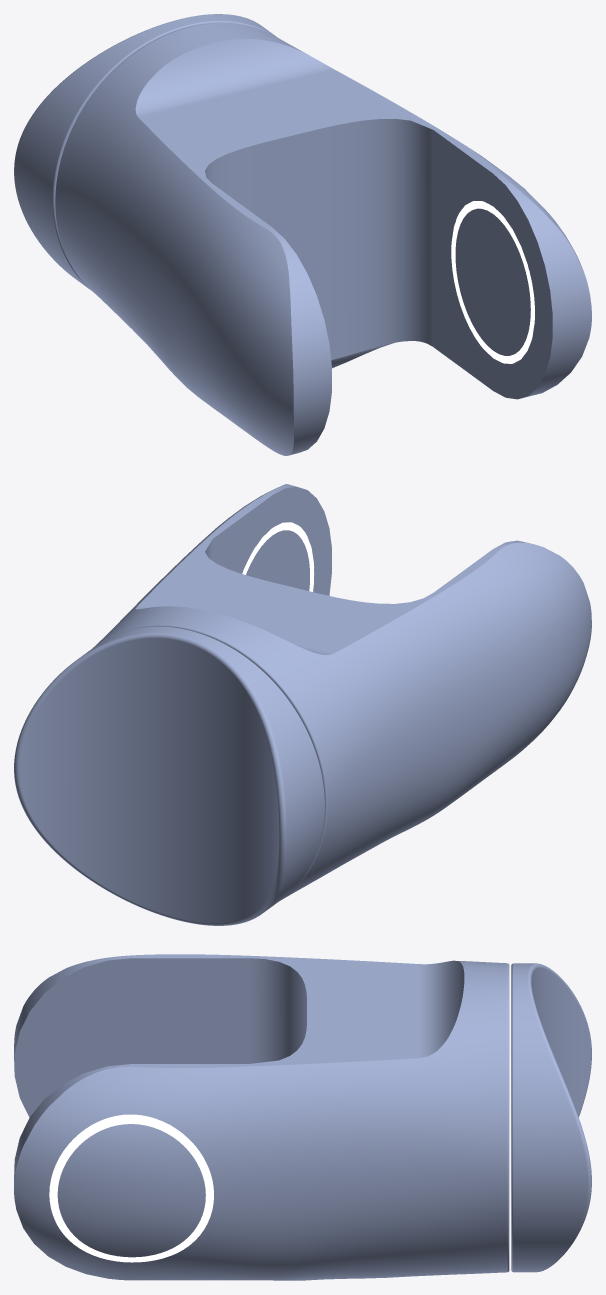
Rendered from 小原子右大臂.glb.
3 renders of one model, top to bottom at view 1: azimuth 30°, elevation 25°; view 2: azimuth 150°, elevation 25°; view 3: azimuth 270°, elevation 25°, orthographic.
Size of the model in its own units: 0.0901 by 0.0736 by 0.1378.
